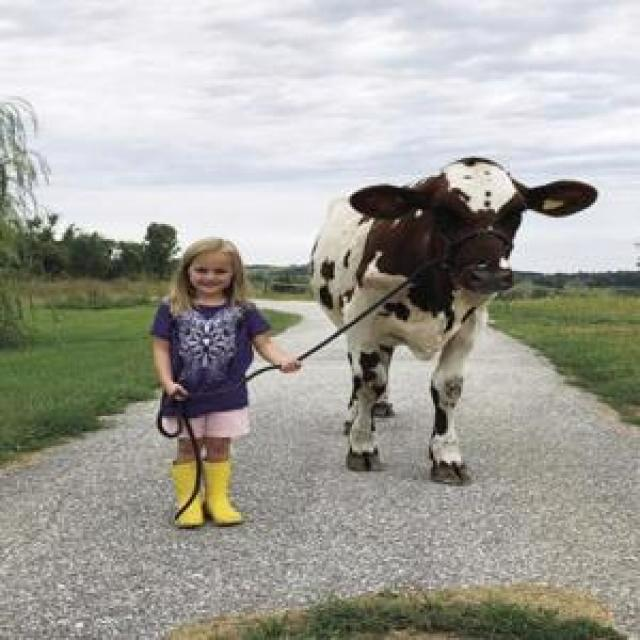cow: (311, 158, 598, 481)
